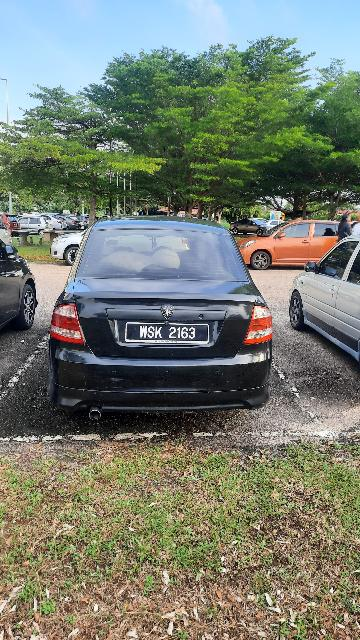License_Plate: (120, 318, 213, 348)
car: (48, 217, 272, 430)
